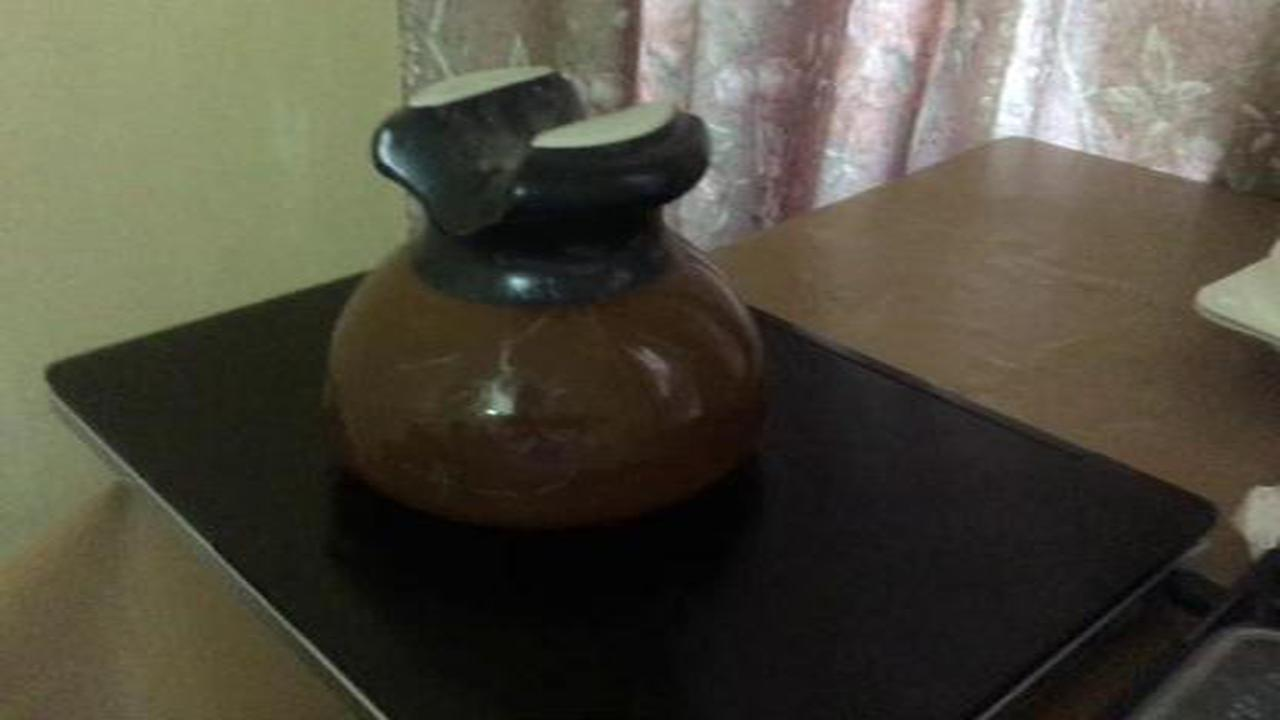insulator_pin: (309, 55, 779, 541)
